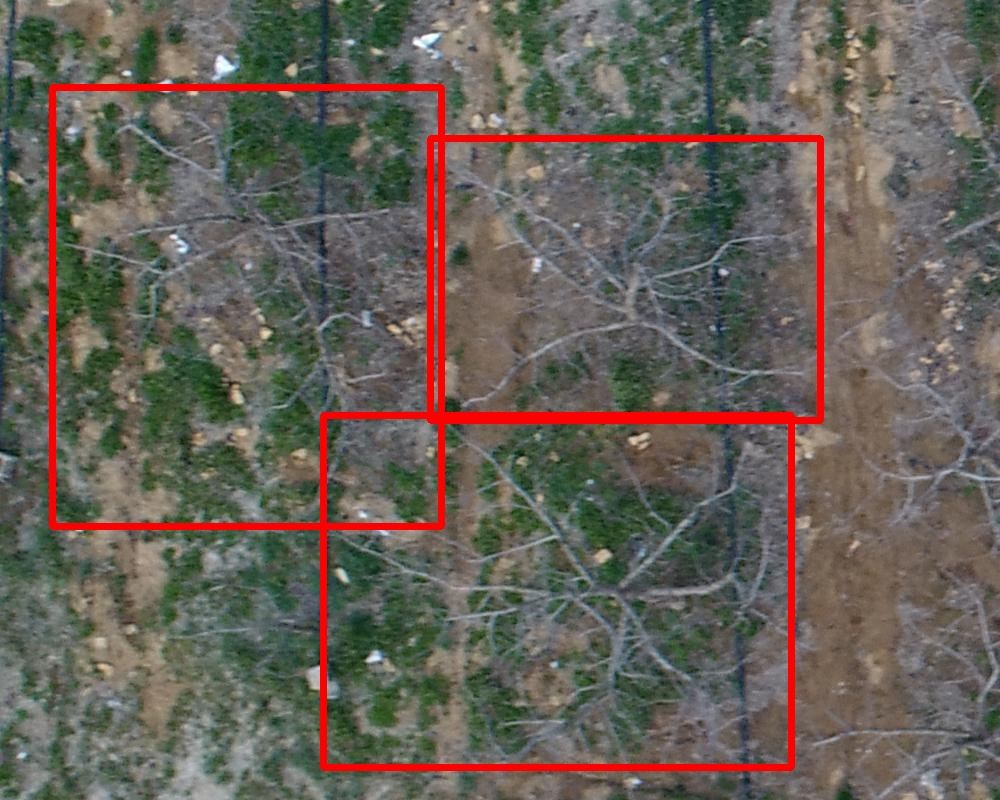apple: (52, 87, 441, 526), (323, 415, 791, 767), (430, 138, 820, 420)
